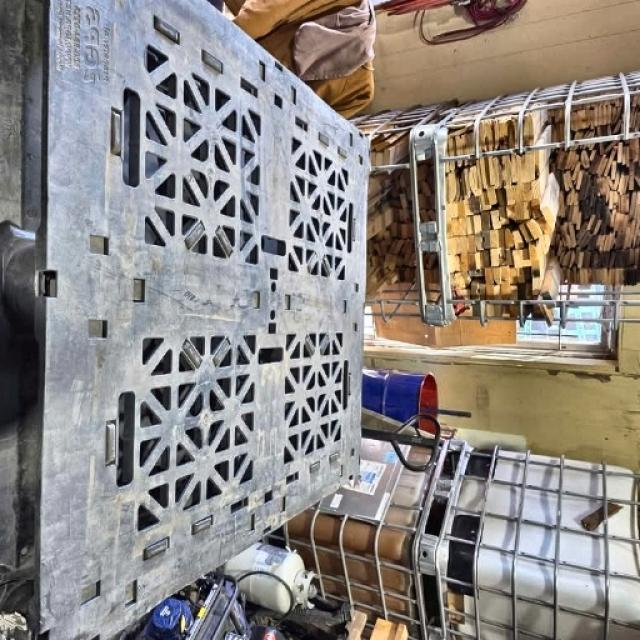igps: (0, 0, 371, 639)
